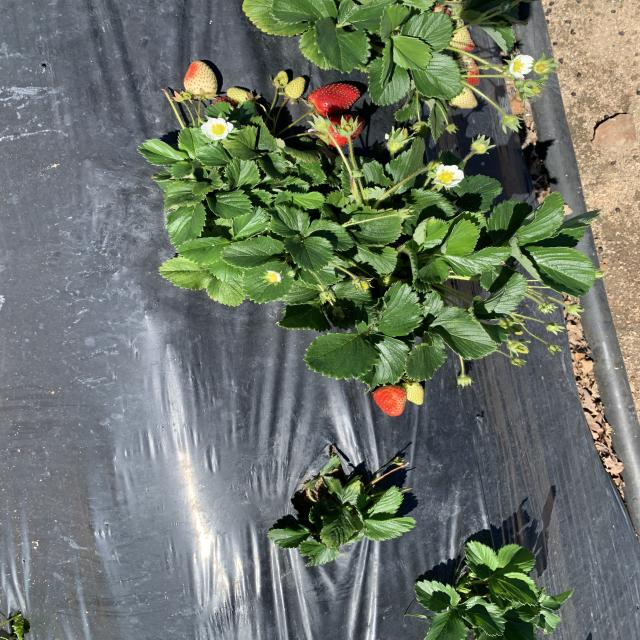unripe: (307, 80, 361, 115), (320, 116, 366, 147), (371, 384, 412, 416), (212, 97, 234, 114)
